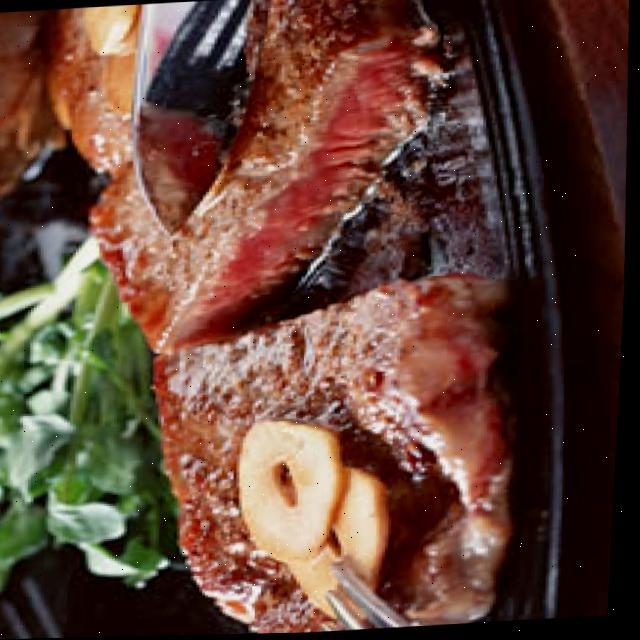牛肉菜式: (65, 0, 536, 638)
